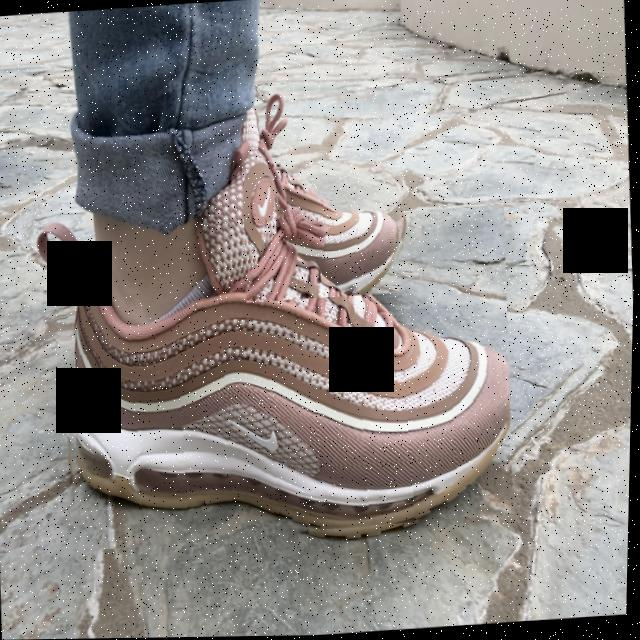shoe: (52, 206, 522, 553), (238, 102, 416, 304)
